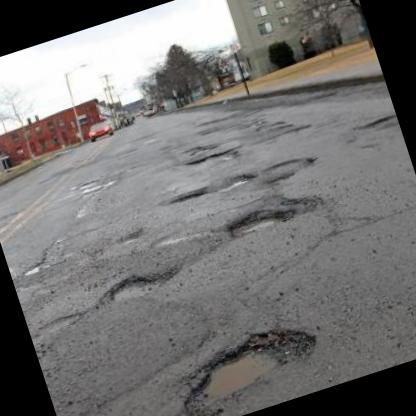pothole: (164, 313, 327, 416), (101, 259, 184, 308), (220, 196, 297, 242), (181, 144, 234, 169), (211, 169, 258, 196), (163, 182, 210, 206)
